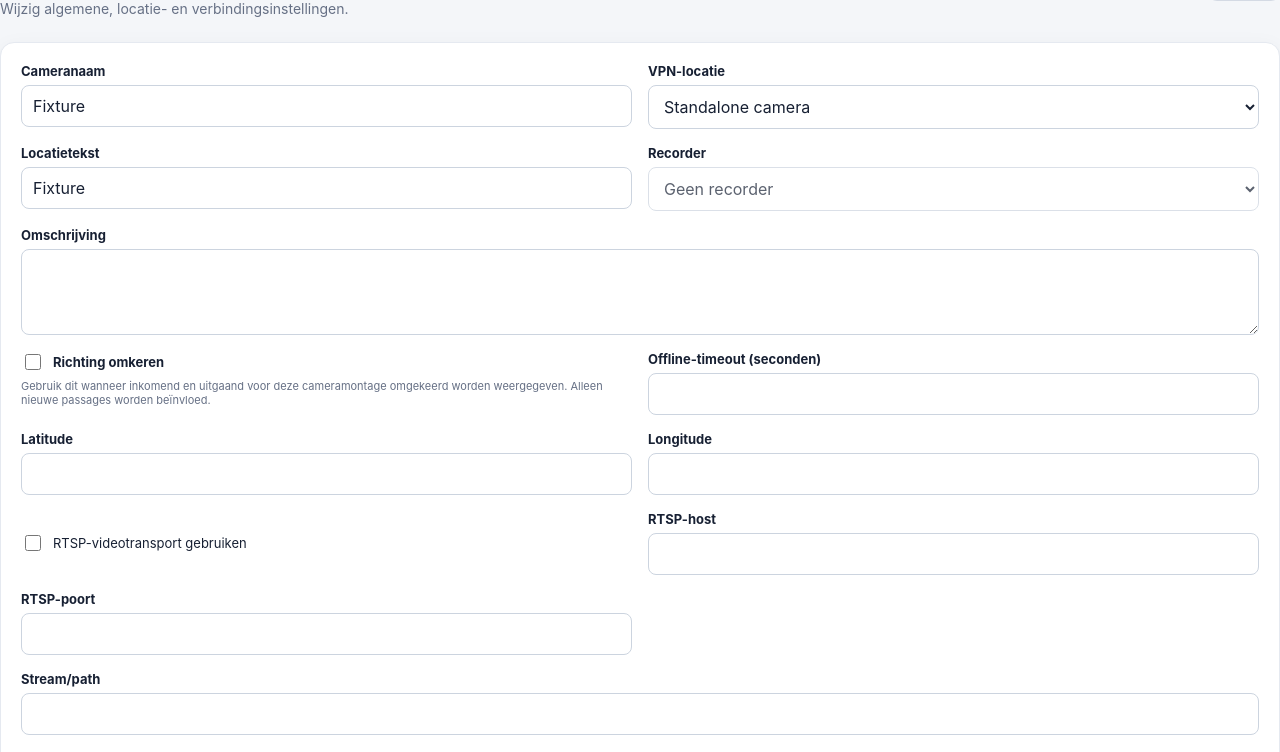
shows the precise API field error instead of only a general message
This screenshot has width=1280, height=752.
Click the checkbox labelled "Richting omkeren".
click(33, 362)  # box [25,354,41,370]
(page scrolled)
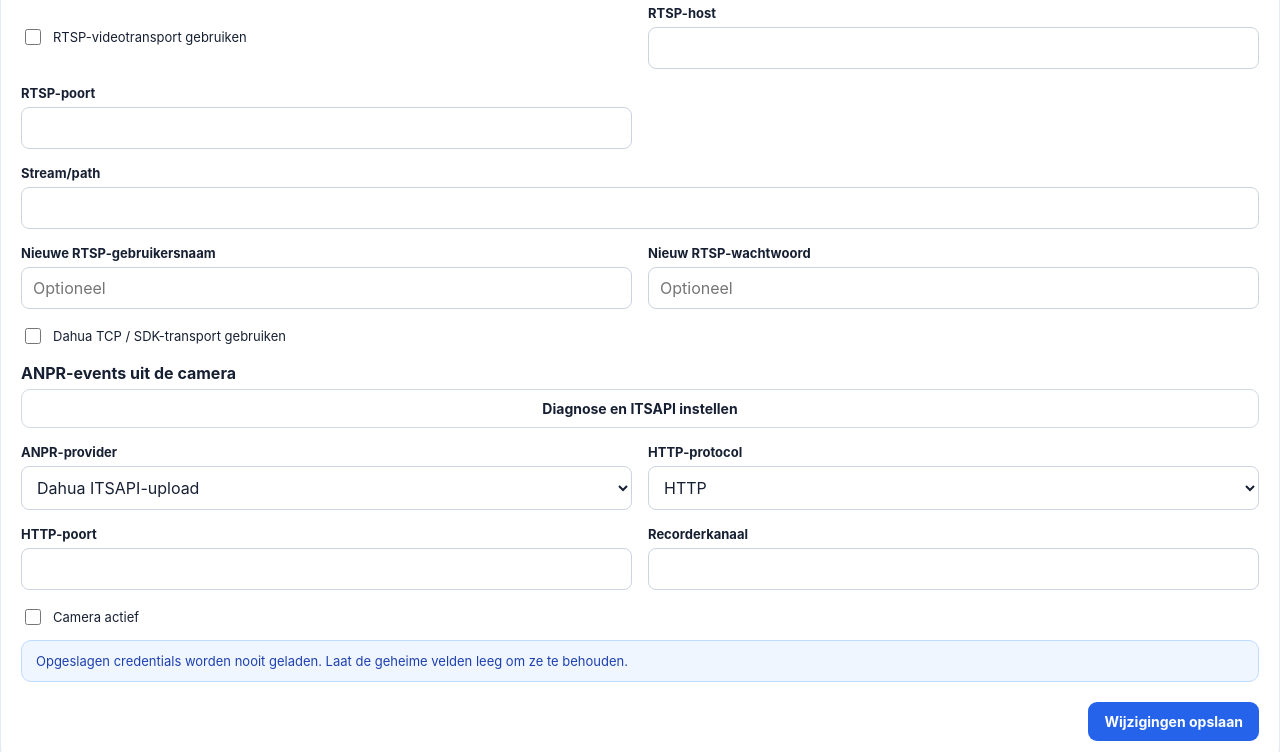
Click the button "Wijzigingen opslaan".
click(1174, 722)  # box [1088,702,1259,741]
(page scrolled)
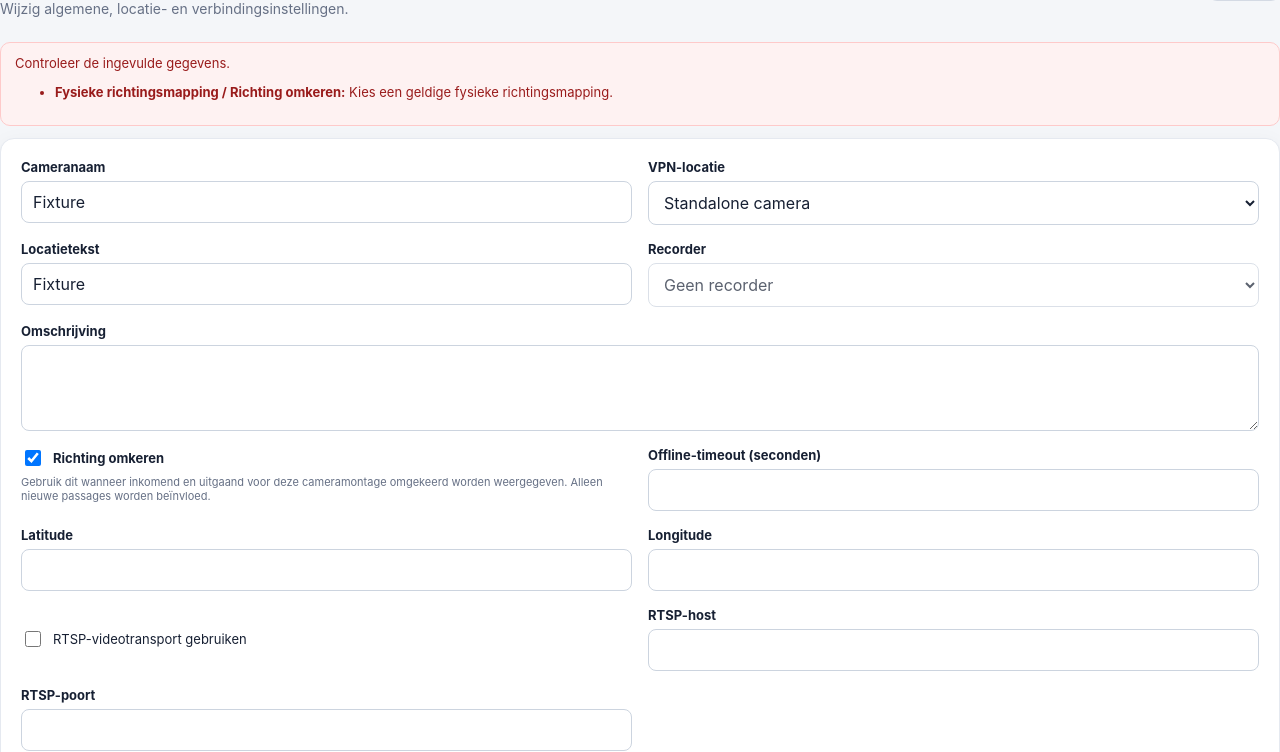
Check: the message shows "Fysieke richtingsmapping / Richting omkeren", box [55,84,341,100]
Check: the message shows "Kies een geldige fysieke richtingsmapping.", box [349,84,613,100]
